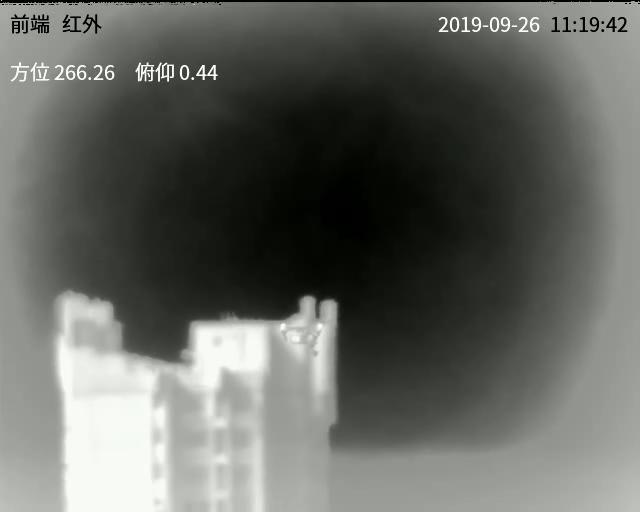uav: (275, 320, 325, 360)
